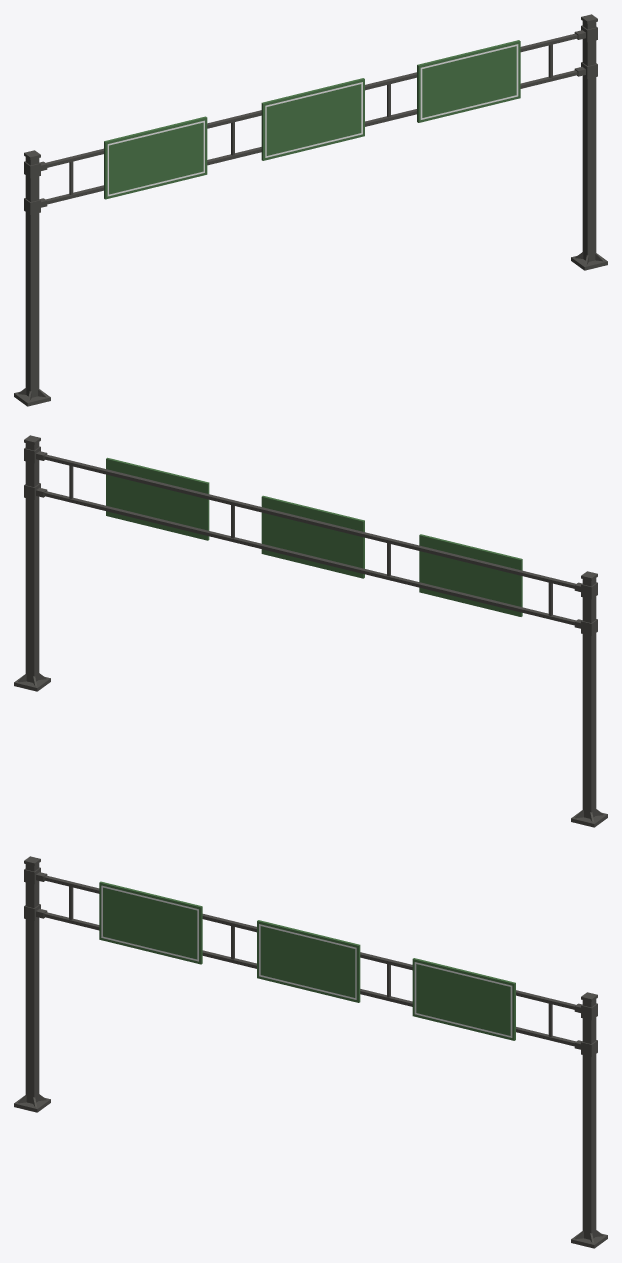
Rendered from BigRoadSign.glb.
3 renders of one model, top to bottom at view 1: azimuth 30°, elevation 25°; view 2: azimuth 150°, elevation 25°; view 3: azimuth 330°, elevation 25°, orthographic.
Visible parts, largest first — view 1: Big_Road_Sing_1; view 2: Big_Road_Sing_1; view 3: Big_Road_Sing_1.
Boxes of the visible parts, x1=… form: Big_Road_Sing_1: x1=14, y1=14, x2=607, y2=406; Big_Road_Sing_1: x1=14, y1=435, x2=607, y2=827; Big_Road_Sing_1: x1=14, y1=856, x2=607, y2=1248.
Size of the model in its own units: 22.92 by 9.25 by 0.9244.
1 material, 1 textured.
